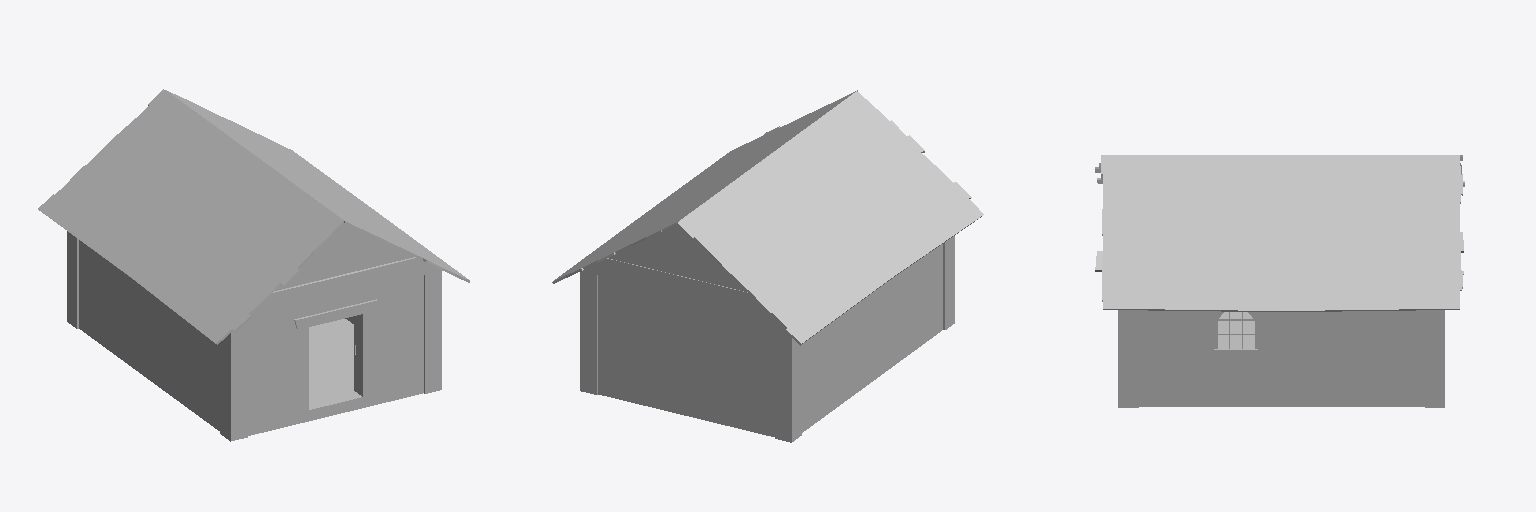
File: House.obj
The picture shows the model from 3 angles: view 1: azimuth 30°, elevation 25°; view 2: azimuth 150°, elevation 25°; view 3: azimuth 270°, elevation 25°; orthographic projection.
Parts seen in each view (by area): view 1: hut.001; view 2: hut.001; view 3: hut.001.
Part boxes in pixels (left/top/right/bottom): hut.001: left=38, top=89, right=469, bottom=441; hut.001: left=552, top=90, right=983, bottom=442; hut.001: left=1095, top=155, right=1464, bottom=407.
Bounding box in the file's own units: 34.48 × 25.82 × 43.05.